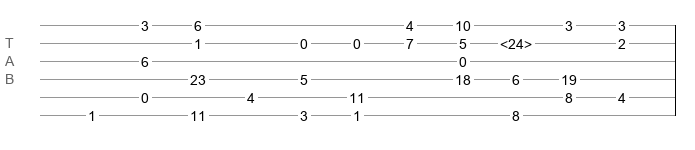0: (141, 90, 149, 100), (300, 36, 308, 46), (353, 36, 361, 46), (459, 54, 467, 64)
1: (88, 108, 96, 118), (194, 36, 202, 46), (353, 108, 361, 118)
10: (455, 18, 471, 28)
11: (190, 108, 206, 118), (349, 90, 365, 100)
18: (455, 72, 471, 82)
19: (561, 72, 577, 82)
2: (618, 36, 626, 46)
23: (190, 72, 206, 82)
3: (141, 18, 149, 28), (300, 108, 308, 118), (565, 18, 573, 28), (618, 18, 626, 28)
4: (247, 90, 255, 100), (406, 18, 414, 28), (618, 90, 626, 100)
5: (300, 72, 308, 82), (459, 36, 467, 46)
6: (141, 54, 149, 64), (194, 18, 202, 28), (512, 72, 520, 82)
7: (406, 36, 414, 46)
8: (512, 108, 520, 118), (565, 90, 573, 100)
harmonic: (500, 36, 532, 46)
